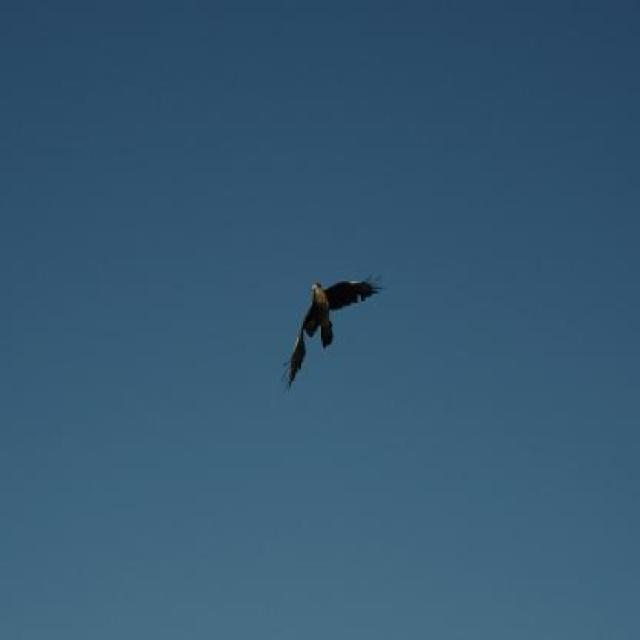bird: (278, 257, 382, 406)
